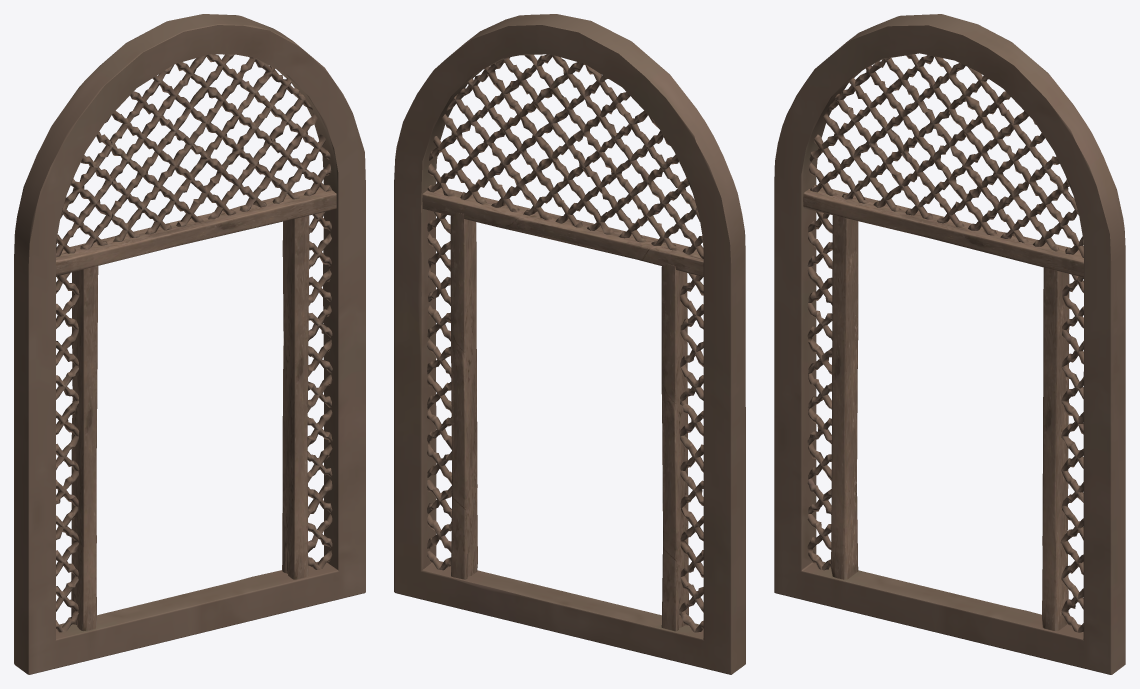
The model's file is SM_DaChuangHu03_8964b7.glb.
3 views of the same model, side by side, from view 1: azimuth 30°, elevation 25°; view 2: azimuth 150°, elevation 25°; view 3: azimuth 330°, elevation 25° (orthographic).
Visible parts, largest first — view 1: SM_DaChuangHu03; view 2: SM_DaChuangHu03; view 3: SM_DaChuangHu03.
Boxes of the visible parts, box(x1,y1,x2,y2) form: SM_DaChuangHu03: box(14, 14, 365, 674); SM_DaChuangHu03: box(394, 14, 745, 674); SM_DaChuangHu03: box(774, 14, 1125, 674).
Bounding box in the file's own units: 2.29 × 3.93 × 0.1864.
Materials: 3 (3 with a texture image).
